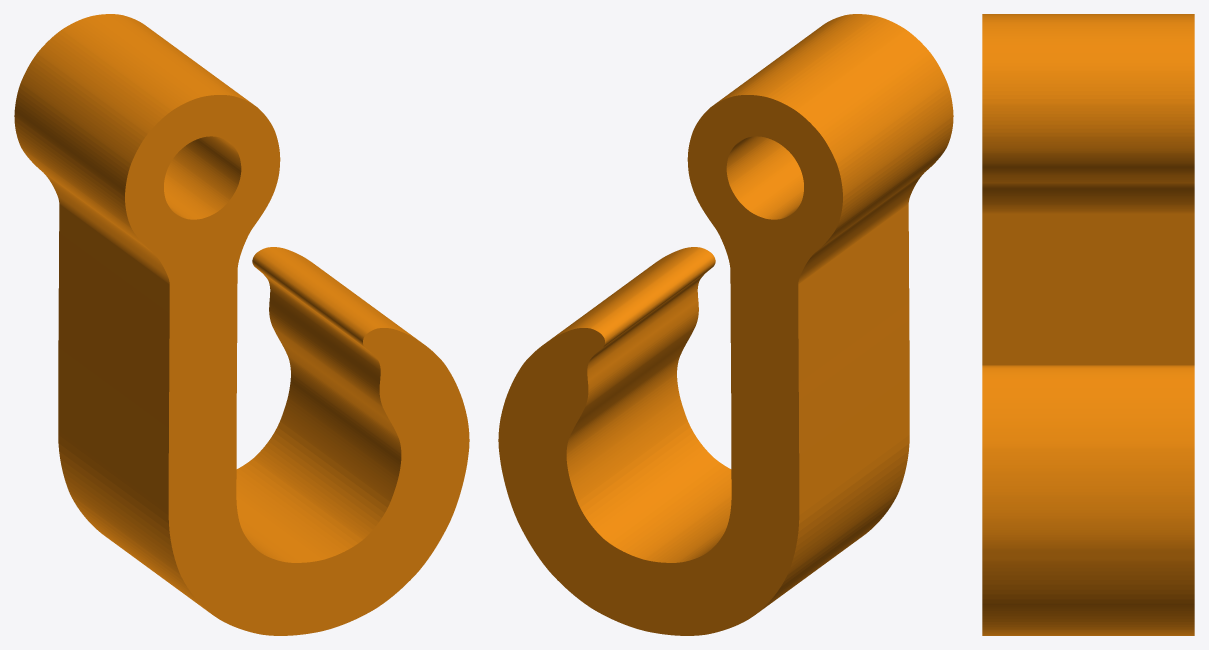
3 views of the same model, side by side, from view 1: azimuth 30°, elevation 25°; view 2: azimuth 150°, elevation 25°; view 3: azimuth 270°, elevation 25° (orthographic). The views are drawn at different scales.
Visible parts, largest first — view 1: U+1FA9D_layer00_obj00; view 2: U+1FA9D_layer00_obj00; view 3: U+1FA9D_layer00_obj00.
Boxes of the visible parts, bbox=[...] form: U+1FA9D_layer00_obj00: bbox=[14, 14, 469, 635]; U+1FA9D_layer00_obj00: bbox=[498, 14, 953, 635]; U+1FA9D_layer00_obj00: bbox=[982, 14, 1194, 635].
Bounding box in the file's own units: 0.3601 × 0.5629 × 0.2.
